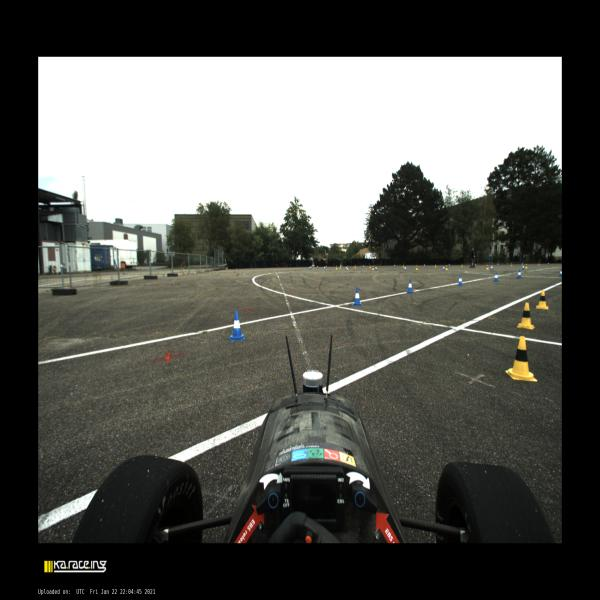blue_cone: (230, 312, 245, 341), (352, 288, 363, 306), (406, 280, 414, 293), (457, 275, 463, 286), (493, 272, 499, 282), (516, 270, 522, 278), (558, 269, 562, 277), (522, 264, 524, 270), (491, 265, 493, 270), (404, 266, 406, 270), (362, 264, 364, 268), (309, 266, 311, 270), (310, 265, 312, 269), (345, 266, 347, 270), (442, 266, 444, 270), (375, 266, 377, 270), (325, 265, 327, 268), (497, 263, 499, 266), (324, 266, 325, 270), (448, 264, 450, 266), (548, 262, 549, 266), (394, 264, 395, 267), (424, 264, 425, 266), (317, 266, 318, 268), (475, 264, 476, 266)
yellow_cone: (505, 336, 537, 382), (517, 303, 535, 329), (536, 290, 548, 310), (486, 264, 489, 270), (445, 265, 448, 270), (416, 265, 418, 270), (335, 266, 338, 269), (372, 266, 374, 270), (461, 263, 463, 267), (525, 264, 527, 268), (538, 262, 540, 266), (354, 265, 356, 268), (369, 265, 371, 268), (339, 266, 341, 269), (511, 262, 512, 266), (347, 266, 348, 270), (435, 264, 436, 267), (403, 264, 404, 267)
